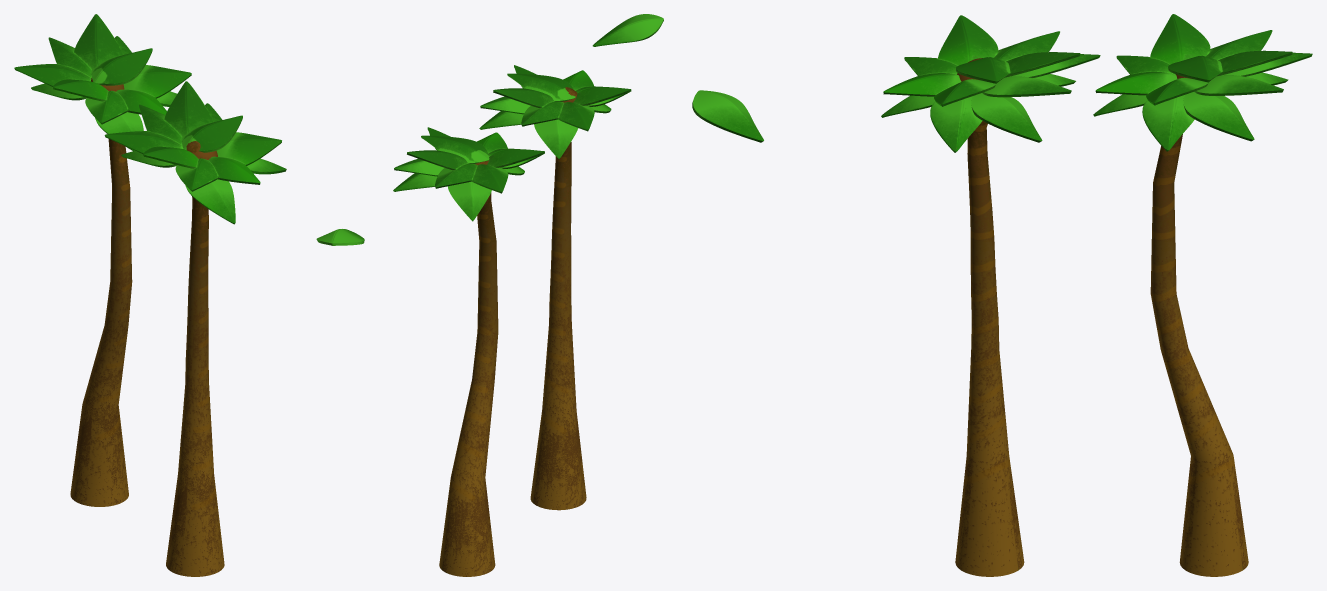
File: palm tree.fbx
3 views of the same model, side by side, from view 1: azimuth 30°, elevation 25°; view 2: azimuth 150°, elevation 25°; view 3: azimuth 270°, elevation 25° (orthographic). The views are drawn at different scales.
Parts seen in each view (by area): view 1: Tree stalk.003, Tree stalk bent.001, tree leafs, tree leafs.001, leaf single; view 2: Tree stalk bent.001, Tree stalk.003, tree leafs.001, tree leafs, leaf single; view 3: Tree stalk.003, Tree stalk bent.001, tree leafs.001, tree leafs, leaf single.
Boxes of the visible parts, <box> form: Tree stalk.003: <box>166,141,224,576</box>; Tree stalk bent.001: <box>70,78,132,506</box>; tree leafs: <box>104,81,286,224</box>; tree leafs.001: <box>14,14,191,151</box>; leaf single: <box>316,229,364,245</box>; Tree stalk bent.001: <box>439,160,498,576</box>; Tree stalk.003: <box>530,87,586,510</box>; tree leafs.001: <box>393,127,544,221</box>; tree leafs: <box>479,65,631,158</box>; leaf single: <box>592,14,663,46</box>; Tree stalk.003: <box>955,58,1024,576</box>; Tree stalk bent.001: <box>1150,74,1248,576</box>; tree leafs.001: <box>1093,14,1312,151</box>; tree leafs: <box>881,15,1100,152</box>; leaf single: <box>692,90,763,142</box>.
Bounding box in the file's own units: 152 × 463 × 494.
Materials: 1 (1 with a texture image).
